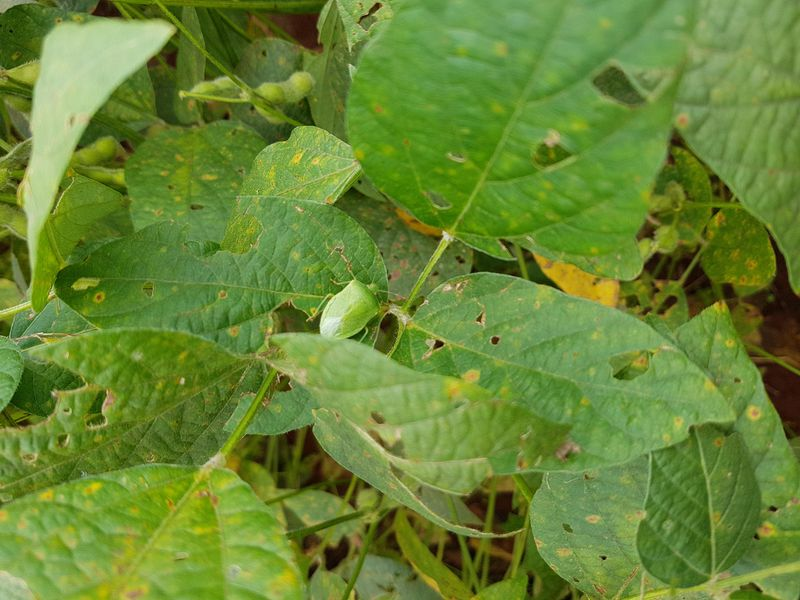Nezara_viridula_adulto: (302, 258, 406, 357)
